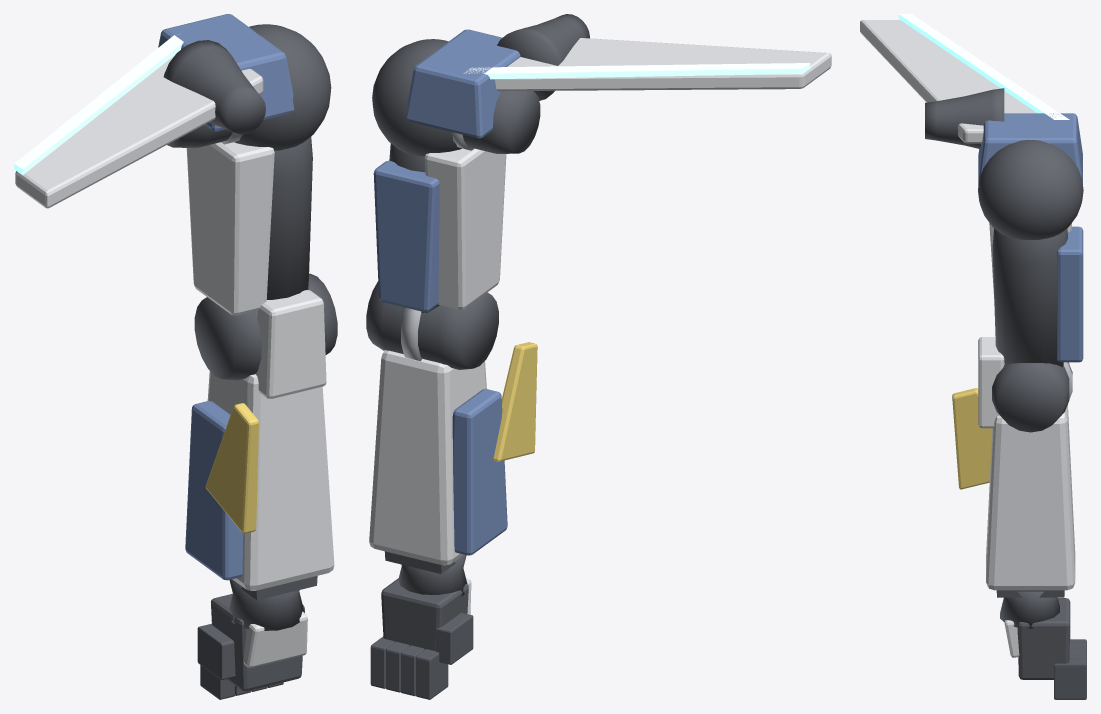
Rendered from arm_fast_l.glb.
The picture shows the model from 3 angles, left to right: view 1: azimuth 30°, elevation 25°; view 2: azimuth 150°, elevation 25°; view 3: azimuth 270°, elevation 25°; orthographic projection. The views are drawn at different scales.
Parts seen in each view (by area): view 1: forearm, upper_arm_plate, shoulder_wing, elbow_guard, forearm_outer, upper_arm, shoulder_joint, pauldron_thruster, elbow_cyl, pauldron_base, forearm_fin, shoulder_wing_edge (+7 smaller); view 2: forearm, shoulder_wing, upper_arm_plate, upper_arm_front, pauldron_base, forearm_outer, elbow_cyl, shoulder_joint, shoulder_wing_edge, palm, forearm_fin, shoulder_axle (+8 smaller); view 3: forearm, shoulder_joint, upper_arm, shoulder_wing, elbow_cyl, pauldron_base, upper_arm_front, palm, forearm_fin, pauldron_thruster, shoulder_wing_edge, elbow_guard (+4 smaller).
Part boxes in pixels (left/top/right/bottom): forearm: left=207, top=371, right=334, bottom=590; upper_arm_plate: left=186, top=142, right=274, bottom=315; shoulder_wing: left=15, top=55, right=263, bottom=208; elbow_guard: left=256, top=290, right=326, bottom=398; forearm_outer: left=185, top=401, right=243, bottom=580; upper_arm: left=266, top=136, right=312, bottom=299; shoulder_joint: left=234, top=24, right=331, bottom=150; pauldron_thruster: left=163, top=40, right=265, bottom=134; elbow_cyl: left=194, top=273, right=337, bottom=380; pauldron_base: left=158, top=14, right=294, bottom=131; forearm_fin: left=205, top=403, right=258, bottom=533; shoulder_wing_edge: left=14, top=35, right=183, bottom=175; forearm: left=369, top=350, right=486, bottom=565; shoulder_wing: left=495, top=38, right=831, bottom=91; upper_arm_plate: left=424, top=148, right=506, bottom=309; upper_arm_front: left=373, top=160, right=439, bottom=312; pauldron_base: left=406, top=29, right=520, bottom=138; forearm_outer: left=452, top=389, right=507, bottom=555; elbow_cyl: left=366, top=281, right=498, bottom=369; shoulder_joint: left=372, top=39, right=461, bottom=156; shoulder_wing_edge: left=463, top=63, right=810, bottom=79; palm: left=381, top=578, right=468, bottom=651; forearm_fin: left=493, top=342, right=537, bottom=461; shoulder_axle: left=462, top=91, right=540, bottom=153; forearm: left=986, top=404, right=1075, bottom=590; shoulder_joint: left=978, top=140, right=1083, bottom=239; upper_arm: left=992, top=228, right=1067, bottom=367; shoulder_wing: left=860, top=20, right=1036, bottom=143; elbow_cyl: left=992, top=362, right=1069, bottom=432; pauldron_base: left=978, top=113, right=1082, bottom=184; upper_arm_front: left=1057, top=226, right=1083, bottom=362; palm: left=1017, top=598, right=1070, bottom=679; forearm_fin: left=952, top=388, right=992, bottom=489; pauldron_thruster: left=925, top=88, right=1004, bottom=148; shoulder_wing_edge: left=898, top=14, right=1069, bottom=119; elbow_guard: left=978, top=337, right=1004, bottom=428.
Bounding box in the file's own units: 4.59 × 7.99 × 2.92.
